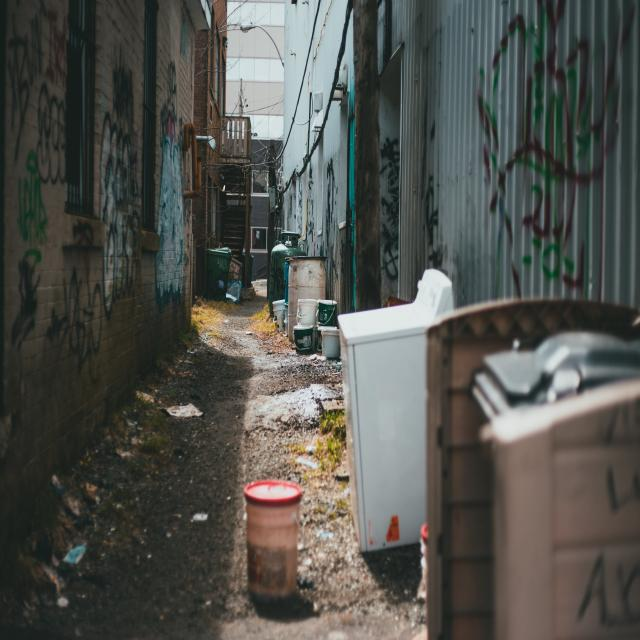plastic: (297, 301, 338, 356)
